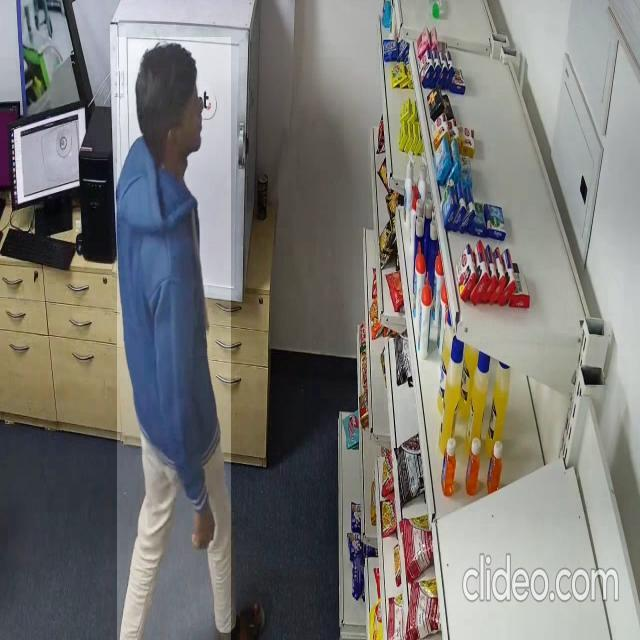normal: (117, 37, 231, 640)
